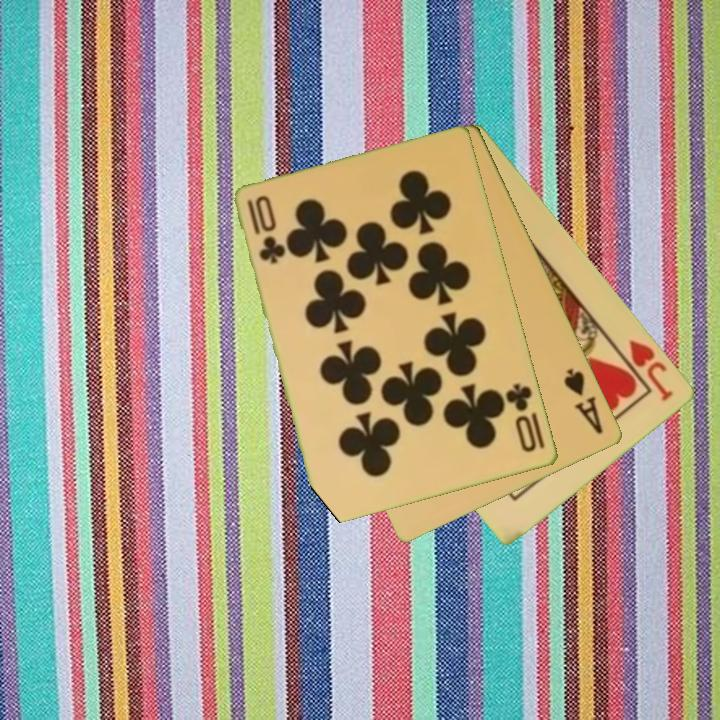10c: (244, 196, 286, 268), (502, 380, 540, 456)
As: (560, 364, 607, 437)
Jh: (625, 336, 677, 404)
